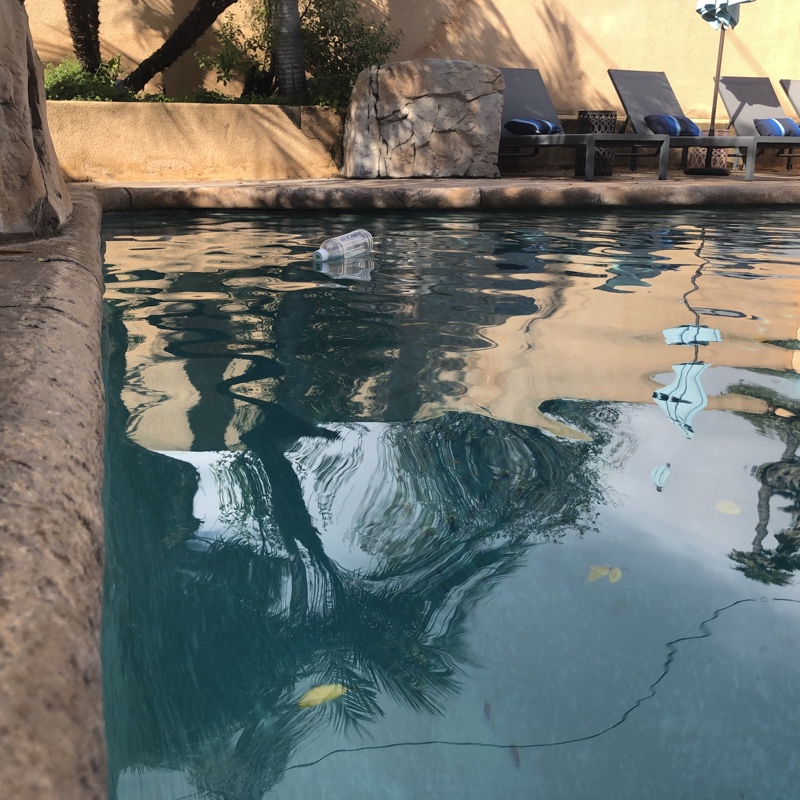Plastic Bottle: (307, 224, 381, 266)
